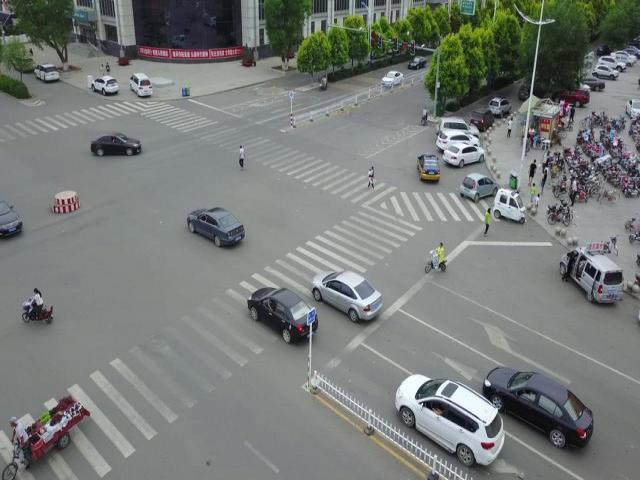out of water: (9, 416, 31, 471), (562, 250, 576, 284), (31, 286, 43, 318), (527, 159, 537, 187), (483, 208, 492, 236), (366, 166, 375, 190), (541, 168, 548, 194), (523, 134, 531, 156), (238, 144, 245, 169), (506, 118, 514, 138), (530, 183, 537, 203), (534, 194, 540, 214), (105, 62, 111, 78), (100, 65, 105, 84), (422, 108, 428, 123), (532, 134, 537, 150), (322, 76, 326, 90), (28, 48, 34, 56), (367, 168, 371, 178)
